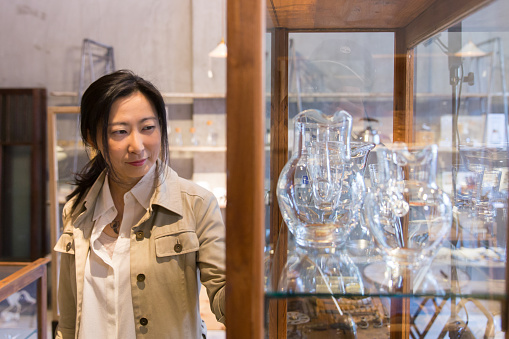em pe: (36, 73, 233, 339)
